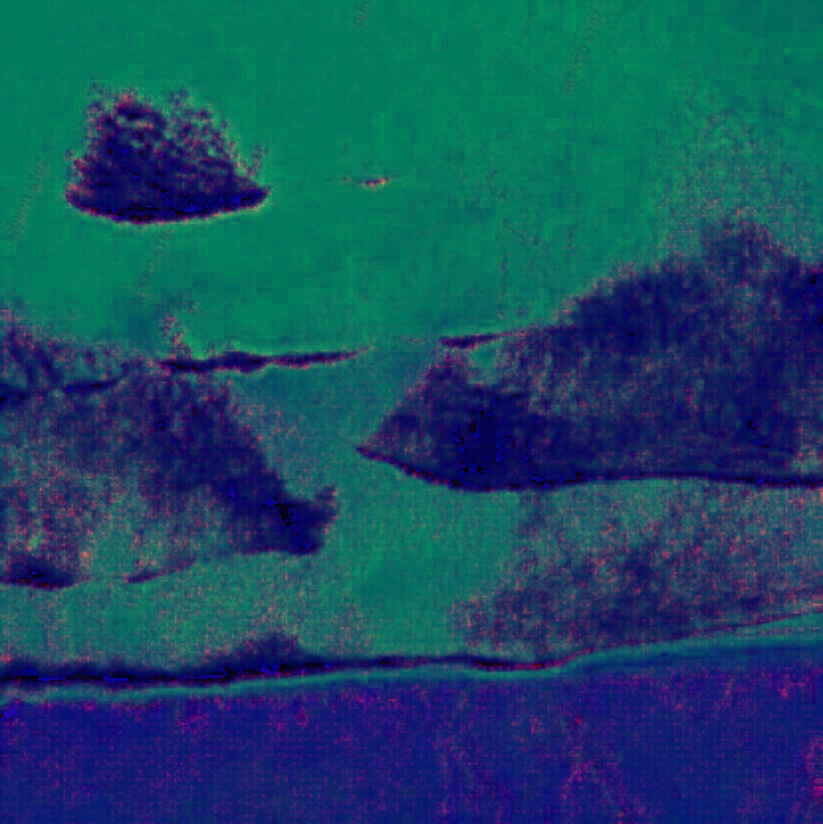rip_current: (193, 244, 534, 635)
